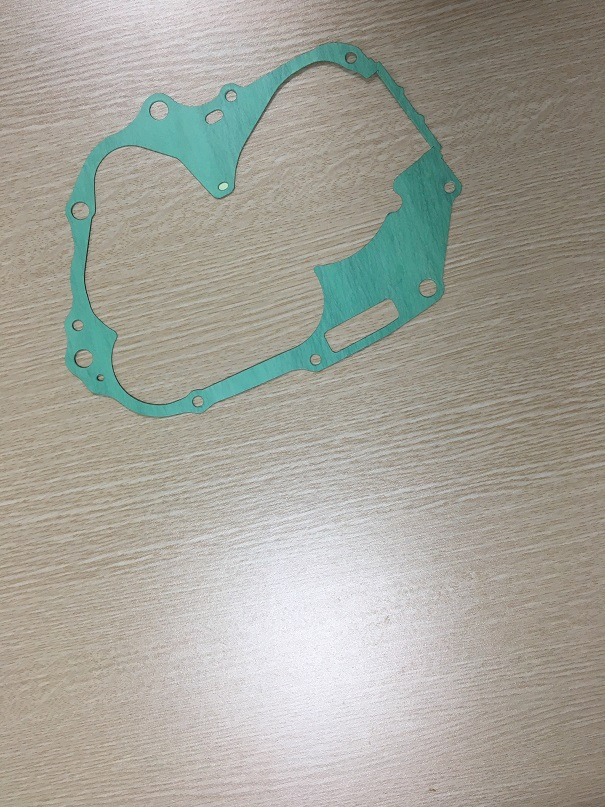type3: (49, 36, 477, 418)
